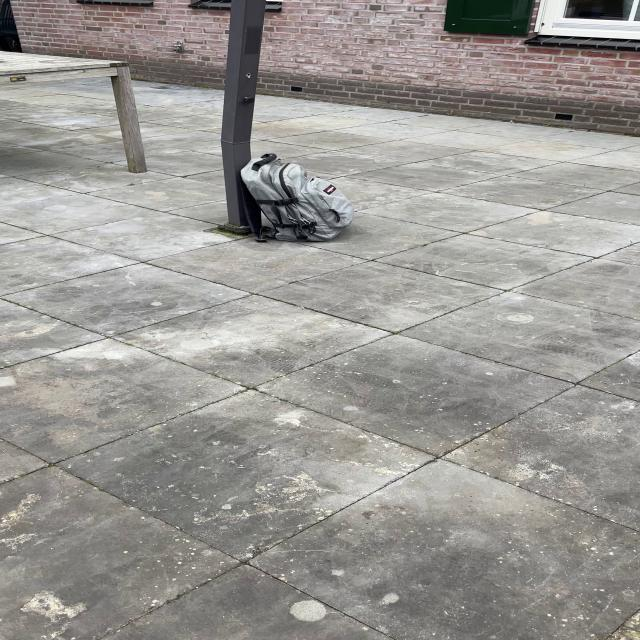backpack: (232, 151, 361, 245)
